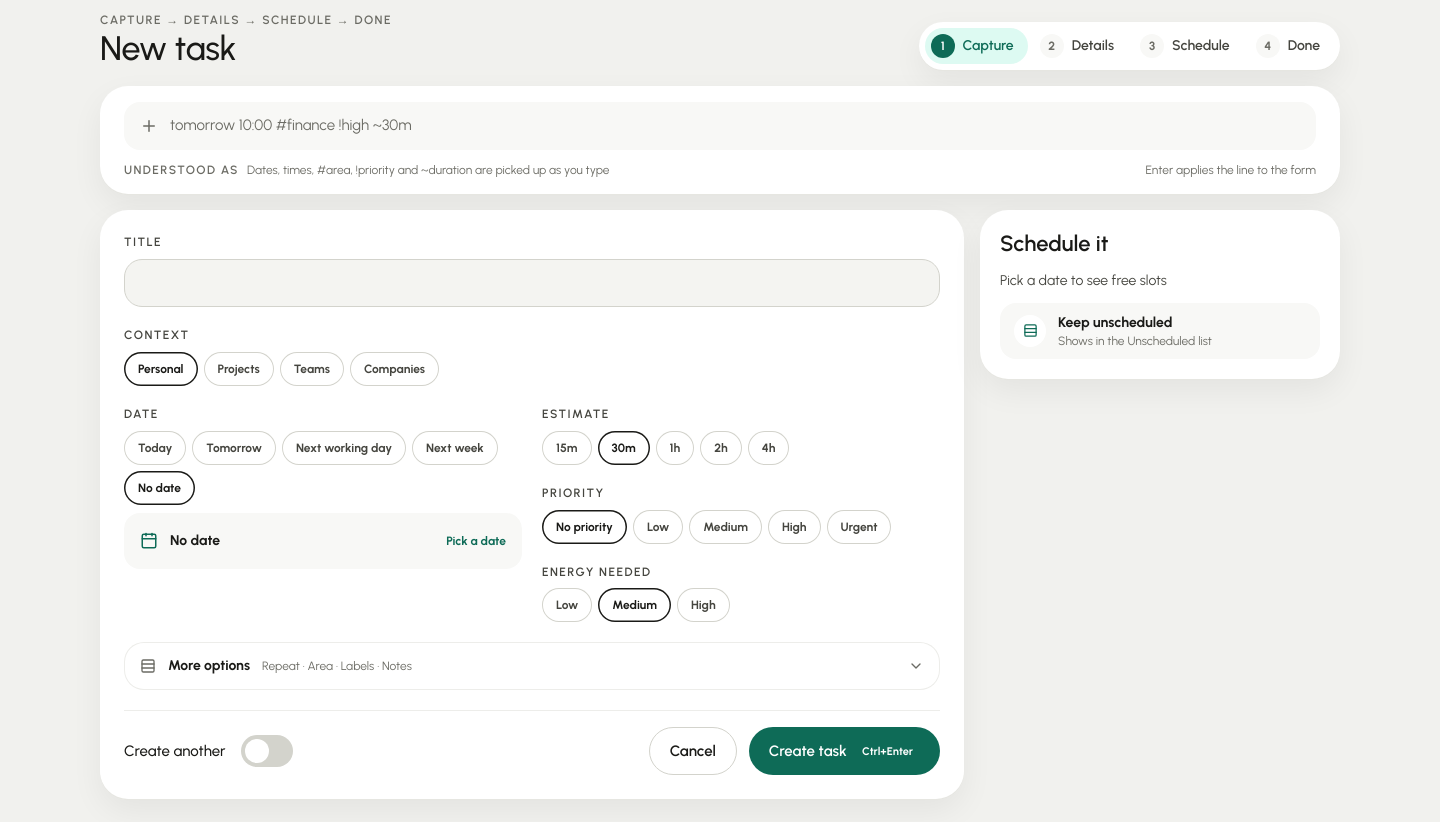
Test: TaskCreateScreen (P05) › asks for a title instead of creating an empty task
Click the button "Create task Ctrl+Enter".
click(844, 751)  # box [749,727,940,775]
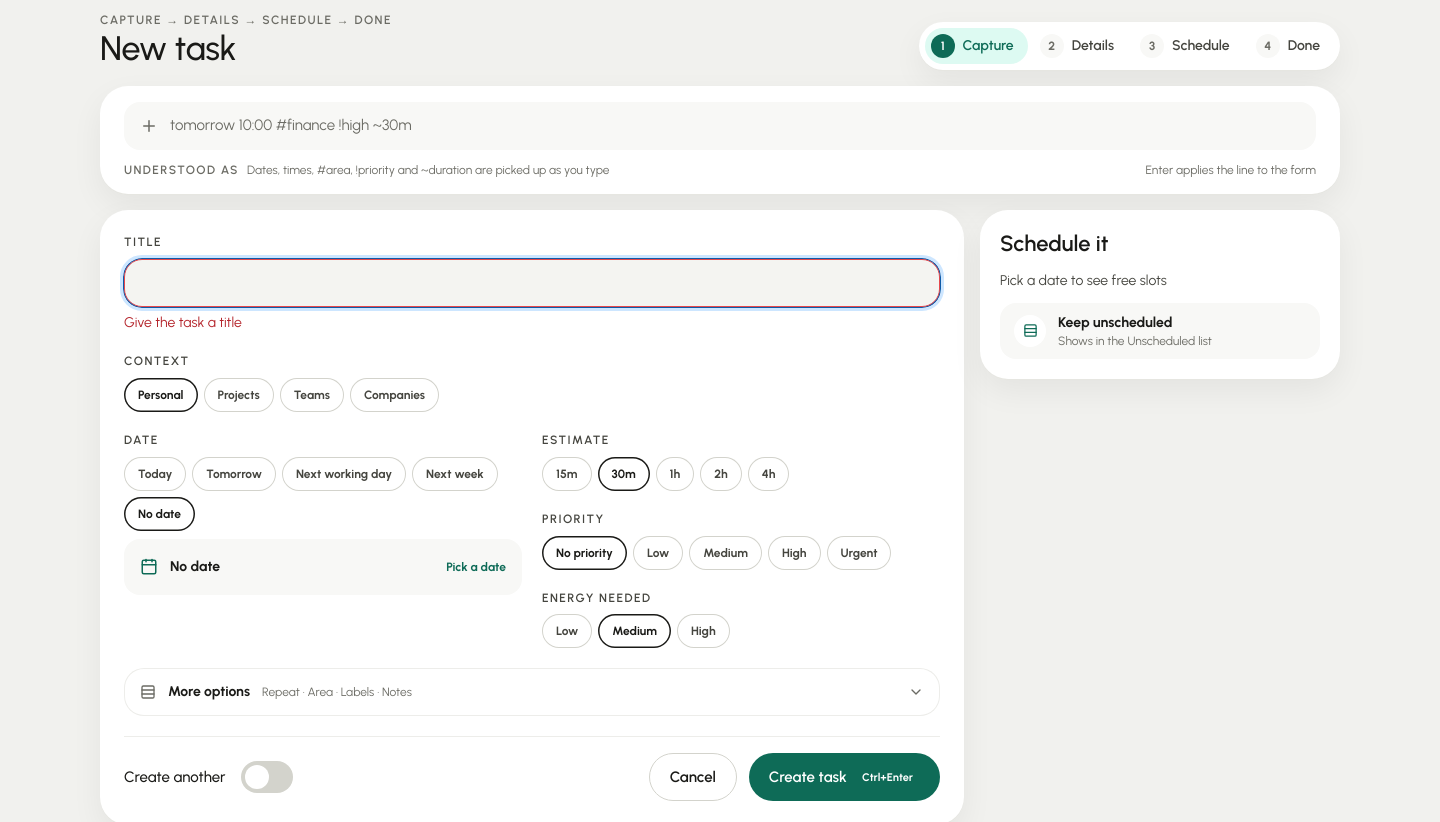
Check: the message reads "Give the task a title", box [124,314,242,331]
